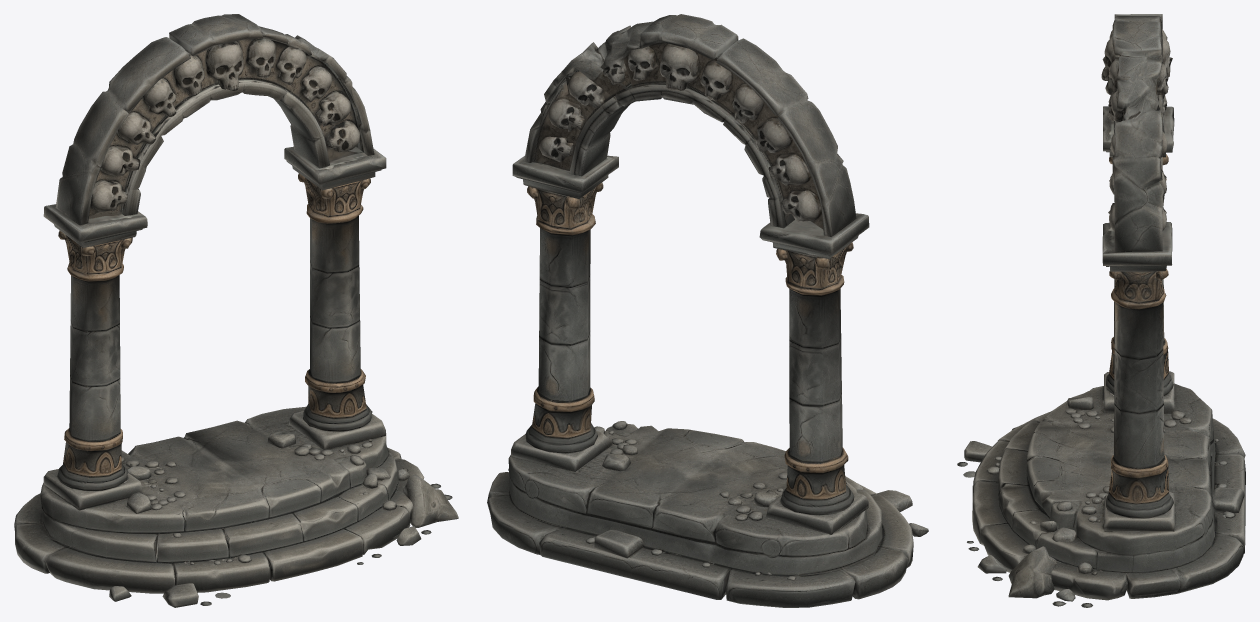
The model's file is funerary-arch.glb.
The picture shows the model from 3 angles, left to right: view 1: azimuth 30°, elevation 25°; view 2: azimuth 150°, elevation 25°; view 3: azimuth 270°, elevation 25°; orthographic projection. The views are drawn at different scales.
Size of the model in its own units: 0.8027 by 0.9541 by 0.5127.
1 material, 1 textured.
